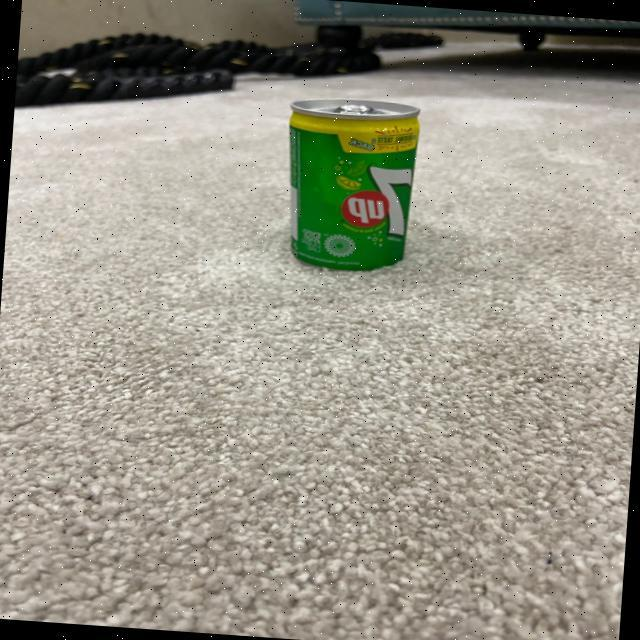debris: (277, 90, 427, 276)
